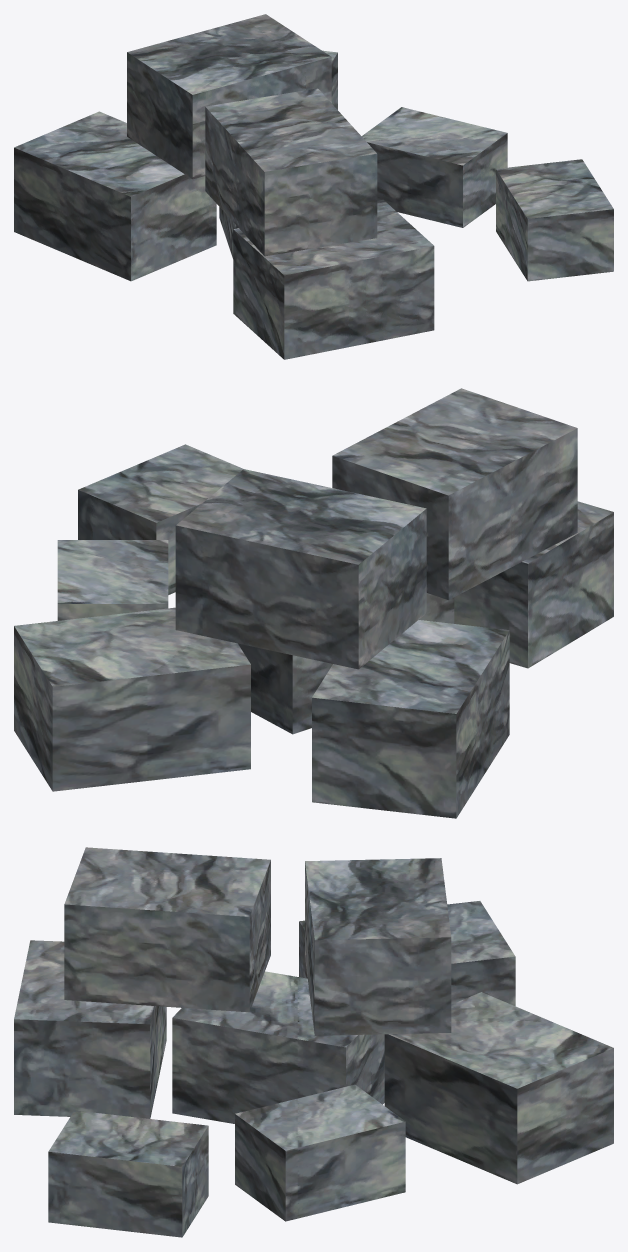
The model's file is Stones.obj.
3 views of the same model, one above another, from view 1: azimuth 30°, elevation 25°; view 2: azimuth 150°, elevation 25°; view 3: azimuth 270°, elevation 25° (orthographic). The views are drawn at different scales.
Size of the model in its own units: 0.8436 by 0.3117 by 0.8865.
Materials: 1 (1 with a texture image).
